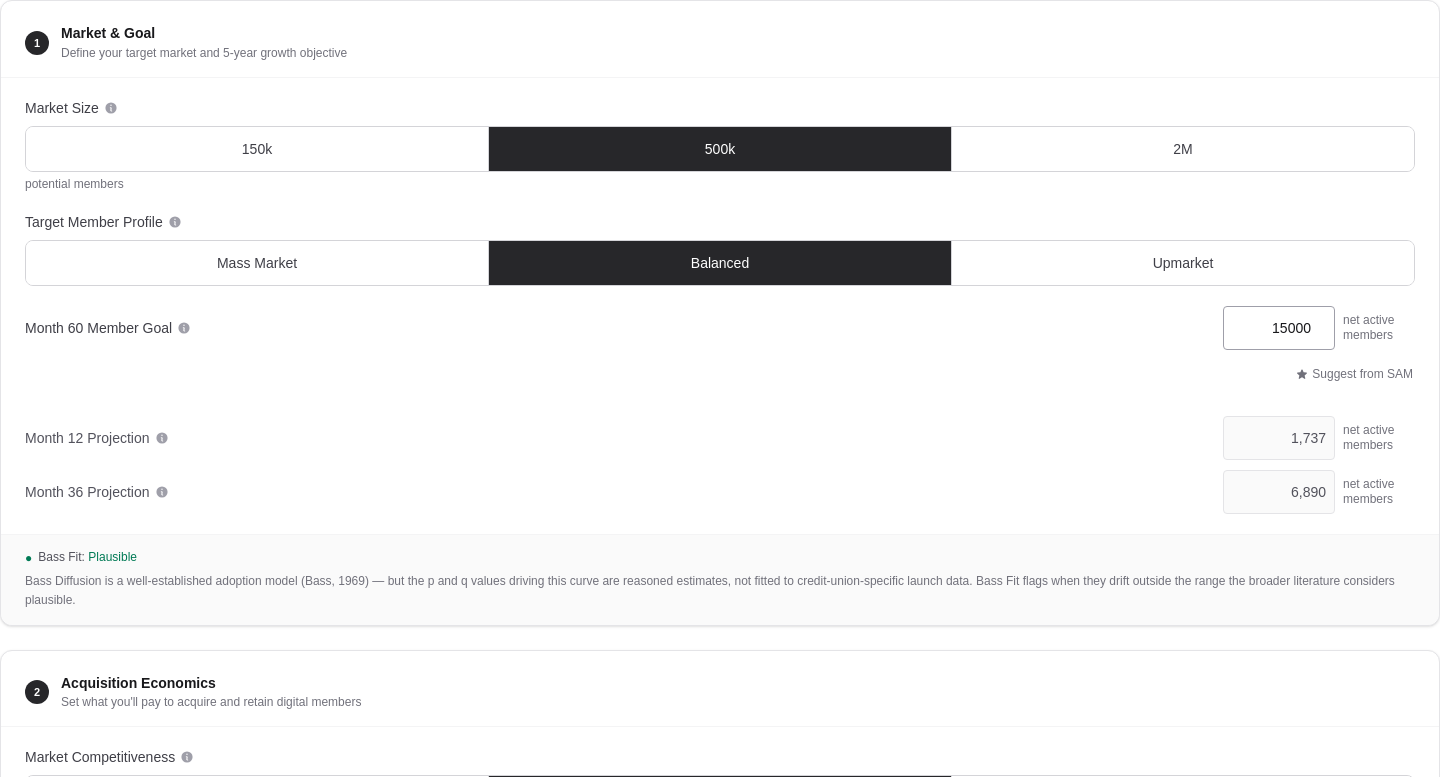
Test case: ModelInputs › Month 12 / Month 36 projections (requires calibration) › Month 12 Projection tooltip explains it's derived, not editable, and points to Advanced Settings
The width and height of the screenshot is (1440, 777).
Hover over the button named "more information" next to "Month 12 Projection".
mouse_move(162, 438)  # box [154,430,170,446]
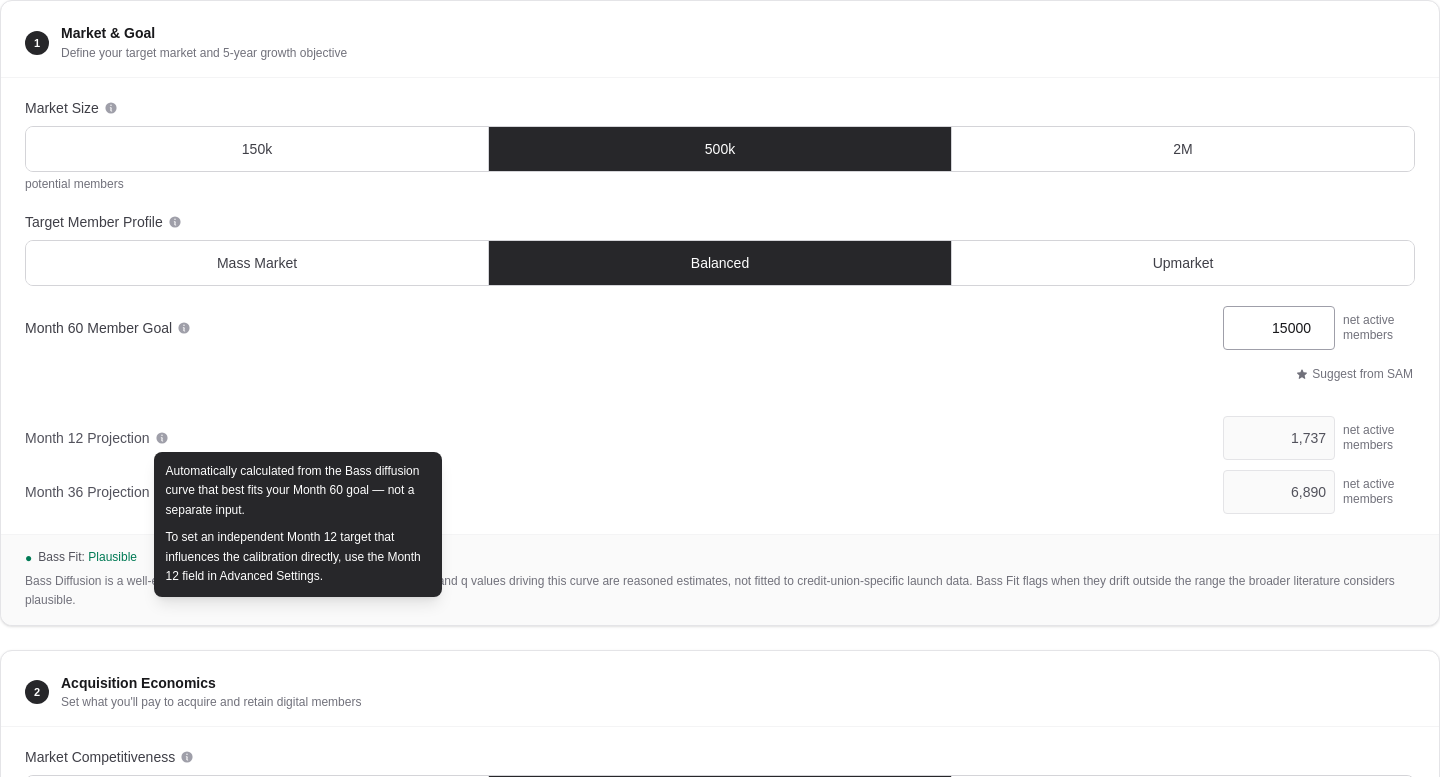
Expected: the tooltip shows "Bass diffusion curve", [166,464,419,516]
Expected: the tooltip shows "Advanced Settings", [166,530,421,583]
